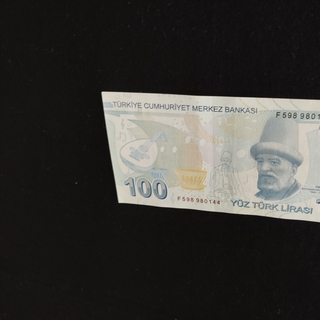100TLBack: (100, 89, 320, 229)
